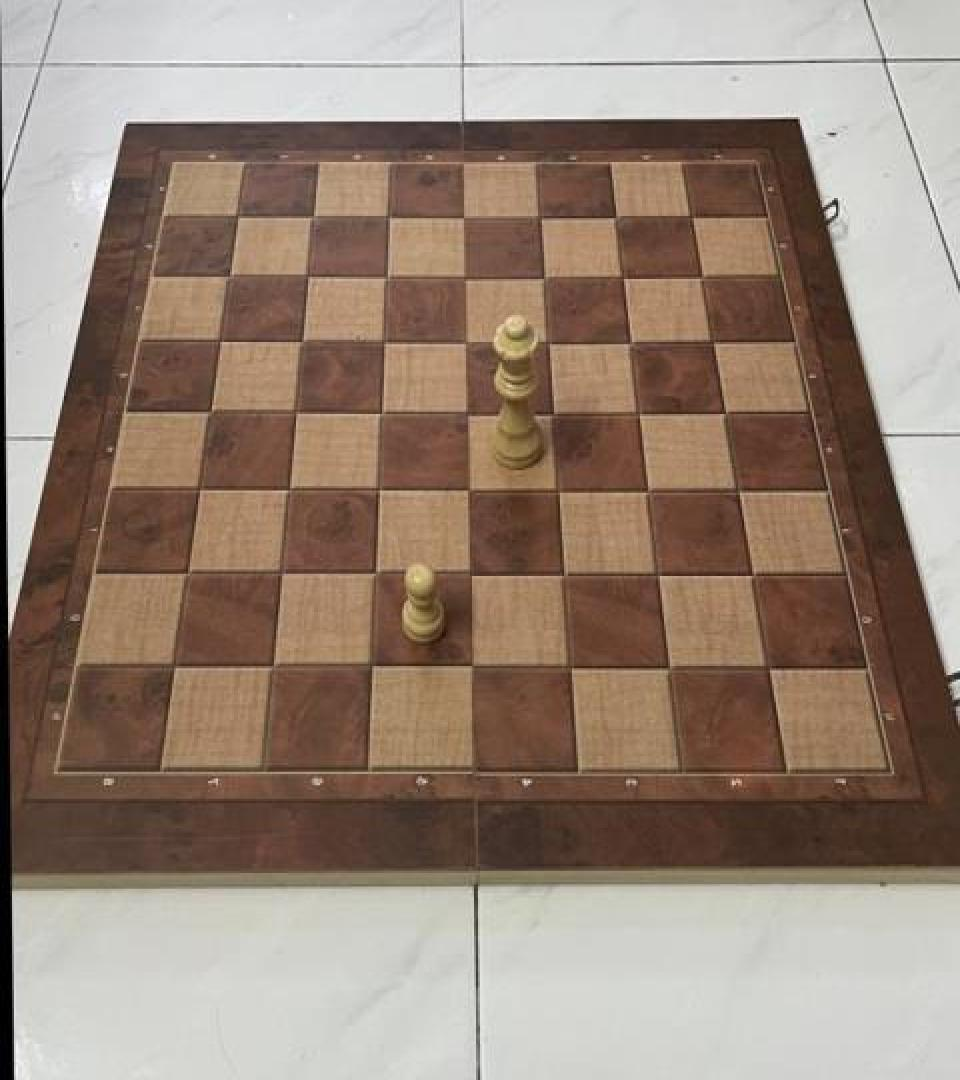xcorner: (449, 255, 483, 294), (528, 255, 562, 294), (607, 255, 641, 294), (224, 197, 258, 235), (299, 197, 333, 235), (374, 197, 408, 235), (449, 196, 483, 234), (524, 196, 558, 234), (600, 195, 634, 233), (676, 195, 710, 233), (215, 256, 249, 294), (293, 256, 327, 294), (371, 256, 405, 294), (686, 255, 720, 293), (206, 322, 240, 360), (287, 321, 321, 359), (368, 321, 402, 359), (450, 321, 484, 359), (532, 321, 566, 359), (614, 320, 648, 358), (697, 320, 731, 358), (195, 392, 229, 430), (280, 392, 314, 430), (365, 392, 399, 430), (451, 392, 485, 430), (536, 390, 570, 428), (622, 390, 656, 428), (709, 390, 743, 428), (184, 469, 218, 507), (273, 469, 307, 507), (362, 468, 396, 506), (451, 468, 485, 506), (541, 468, 575, 506), (631, 468, 665, 506), (721, 468, 755, 506), (172, 554, 206, 592), (265, 554, 299, 592), (358, 554, 392, 592), (452, 554, 486, 592), (546, 554, 580, 592), (641, 554, 675, 592), (736, 554, 770, 592), (158, 647, 192, 685), (256, 647, 290, 685), (354, 647, 388, 685), (453, 647, 487, 685), (552, 648, 586, 686), (652, 648, 686, 686), (751, 648, 785, 686)
